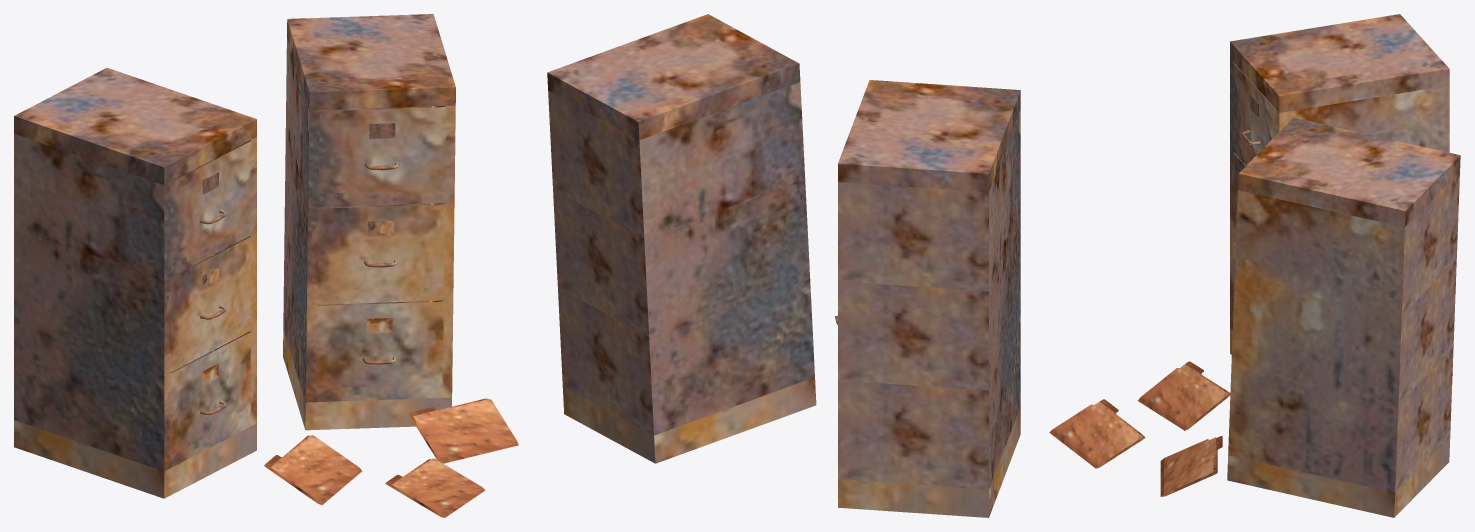
File: cabinets.gltf
3 renders of one model, left to right at view 1: azimuth 30°, elevation 25°; view 2: azimuth 150°, elevation 25°; view 3: azimuth 270°, elevation 25°, orthographic. The views are drawn at different scales.
Parts seen in each view (by area): view 1: metal_file_cabinet, metal_file_cabinet.001, folder_w_paper, folder_w_paper.001, folder_w_paper.002; view 2: metal_file_cabinet.001, metal_file_cabinet; view 3: metal_file_cabinet.001, metal_file_cabinet, folder_w_paper.002, folder_w_paper.001, folder_w_paper.
Boxes of the visible parts, x1,y1,x2,y2 form: metal_file_cabinet: (14, 67, 256, 498); metal_file_cabinet.001: (283, 14, 455, 430); folder_w_paper: (408, 398, 518, 463); folder_w_paper.001: (264, 435, 361, 504); folder_w_paper.002: (385, 458, 484, 517); metal_file_cabinet.001: (547, 14, 816, 463); metal_file_cabinet: (838, 80, 1020, 517); metal_file_cabinet.001: (1227, 117, 1460, 517); metal_file_cabinet: (1230, 14, 1449, 354); folder_w_paper.002: (1049, 399, 1145, 468); folder_w_paper.001: (1138, 361, 1230, 430); folder_w_paper: (1160, 436, 1222, 496).
Size of the model in its own units: 1.62 by 1.25 by 1.45.
5 materials, 5 textured.
